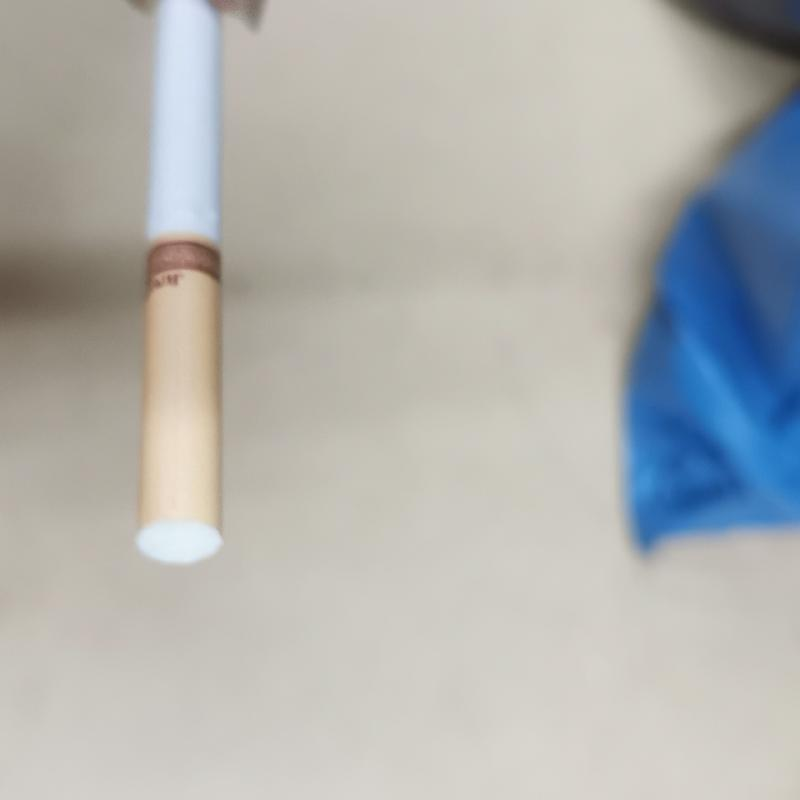cigarette: (128, 7, 232, 572)
